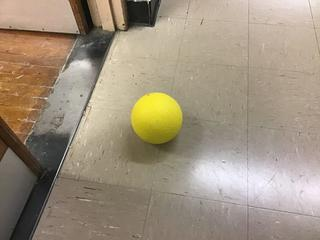power_cell: (123, 89, 186, 144)
